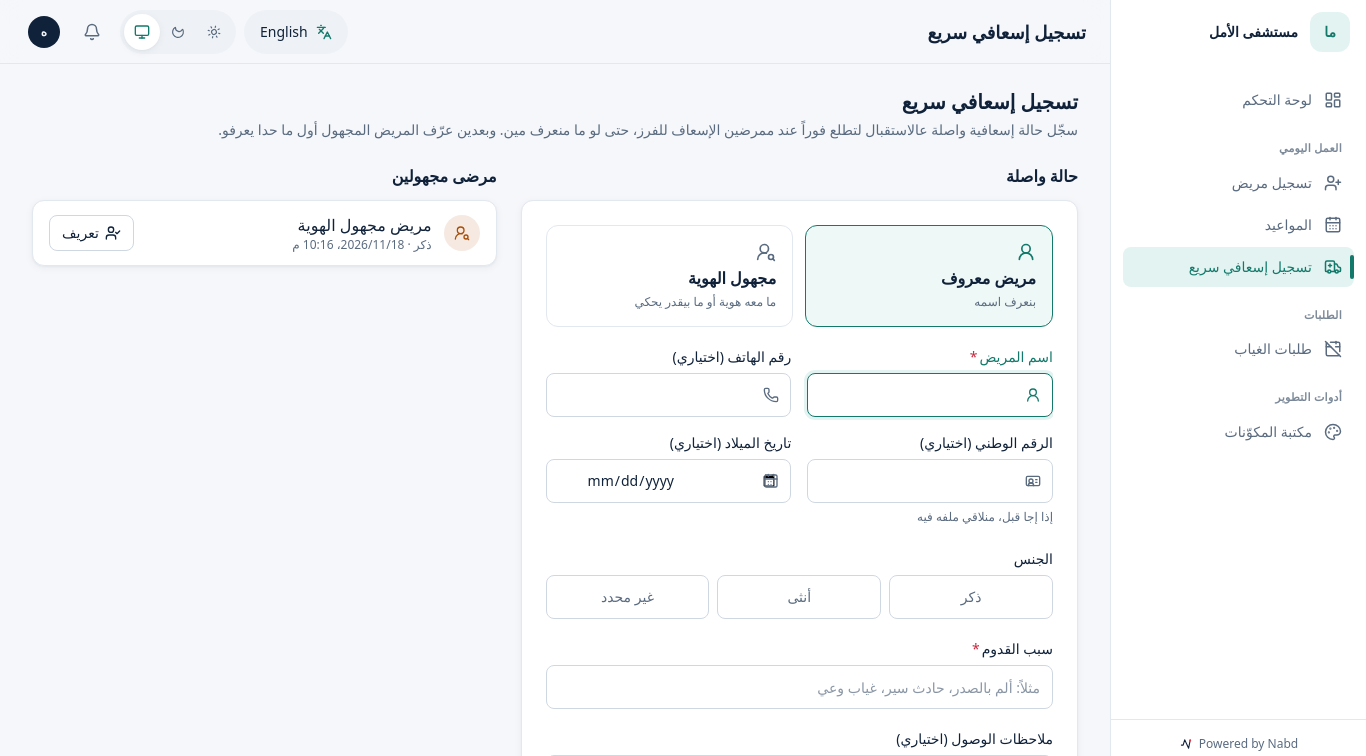
ReceptionEmergencyPage (task 4.3) › identifies an unidentified patient, joining the file they already had
Click the button "تعريف". click: [91, 233]
box: [49, 215, 134, 251]
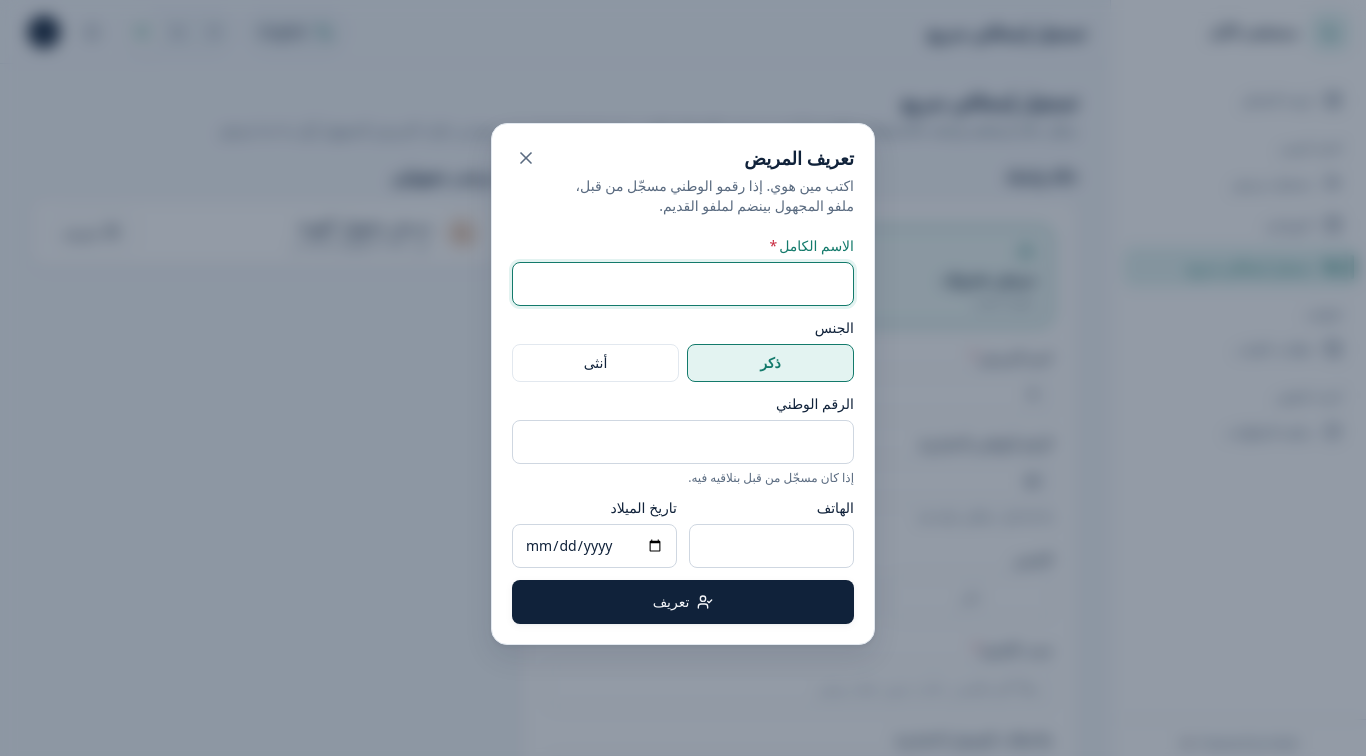
Click the button "تعريف". click: [683, 602]
box: [512, 580, 854, 624]
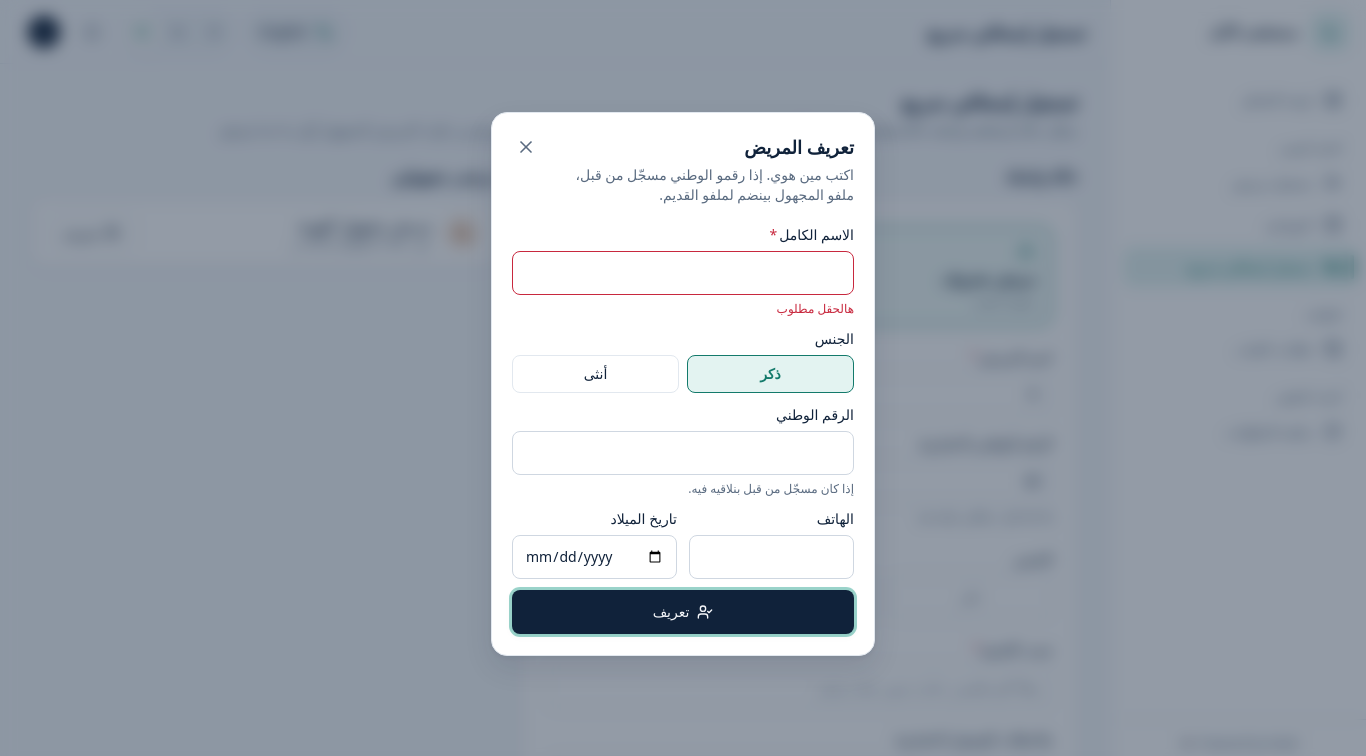
Result: the text "هالحقل مطلوب" is shown at [777, 300, 854, 317]
Type "سارة" into the field labelled "الاسم الكامل*". click: [683, 273]
box: [512, 251, 854, 295]
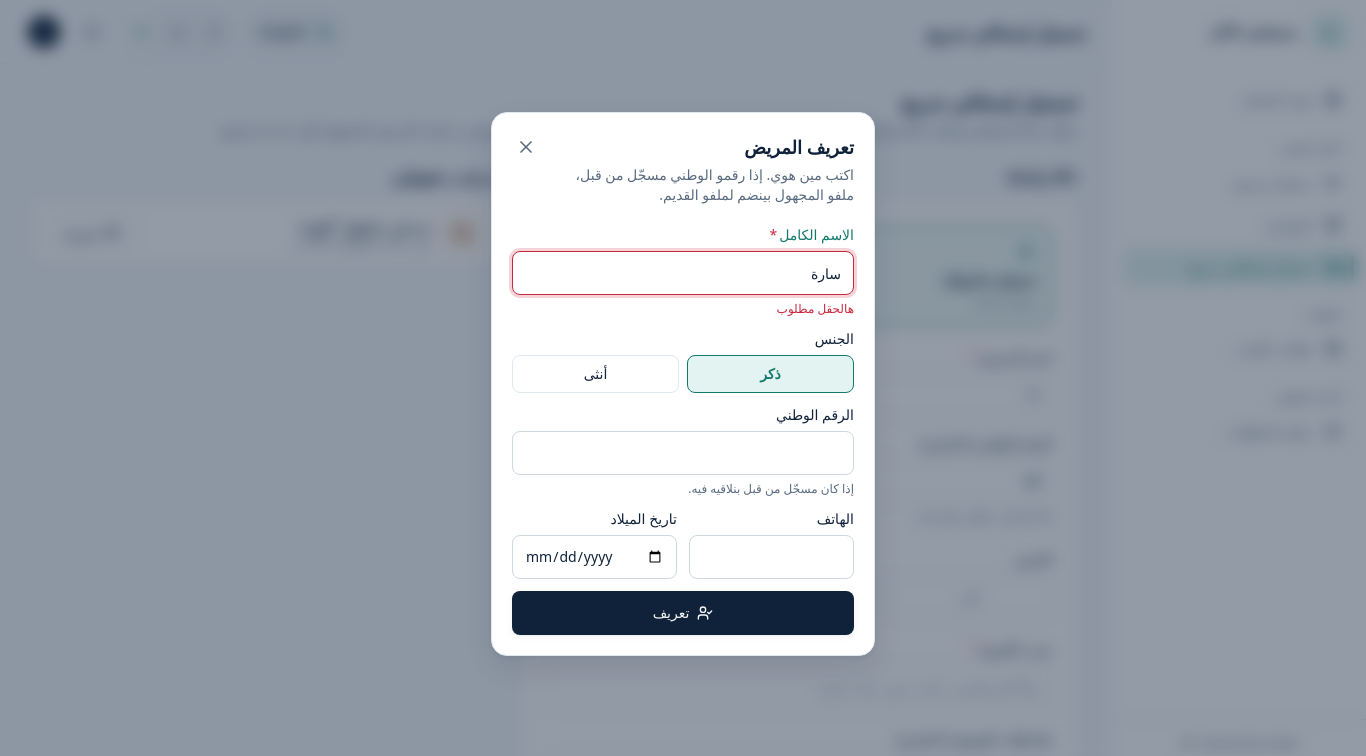
Type "11112222" into the field labelled "الرقم الوطني". click: [683, 453]
box: [512, 431, 854, 475]
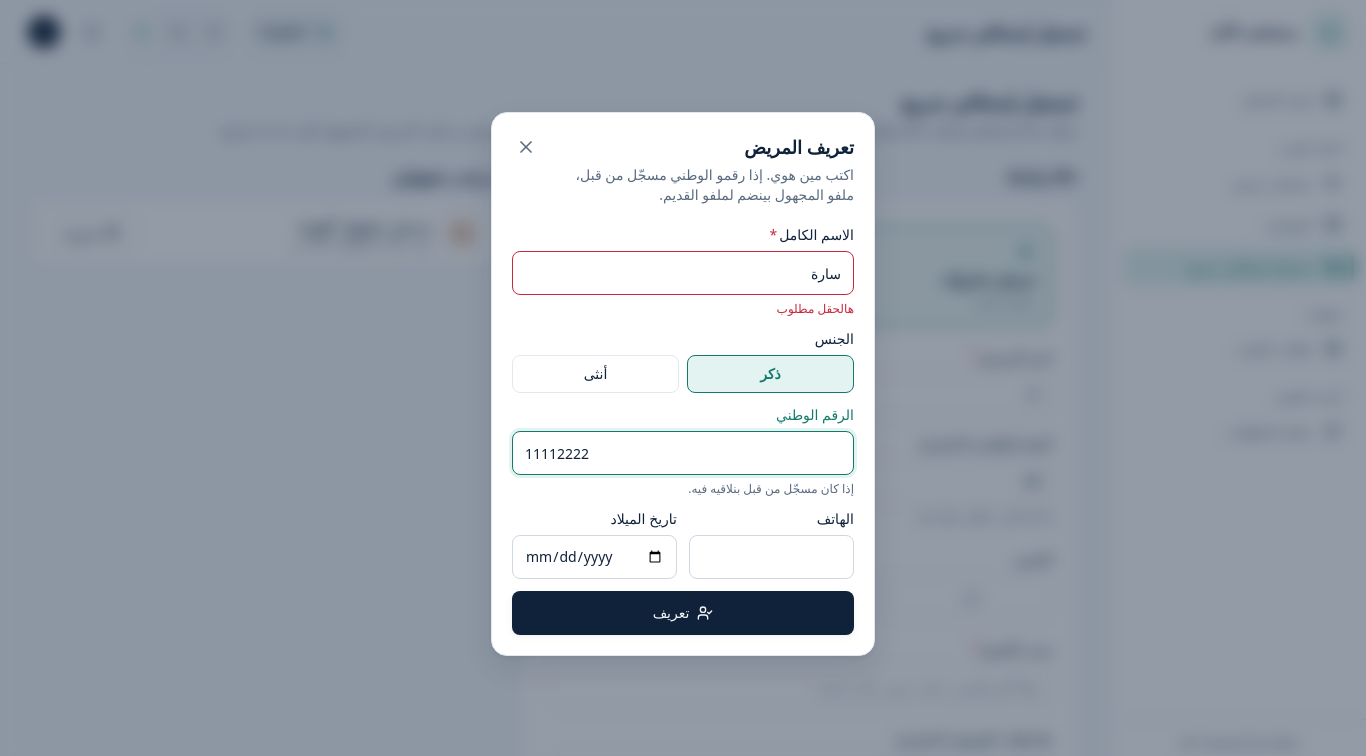
Click the button "تعريف". click: [683, 613]
box: [512, 591, 854, 635]
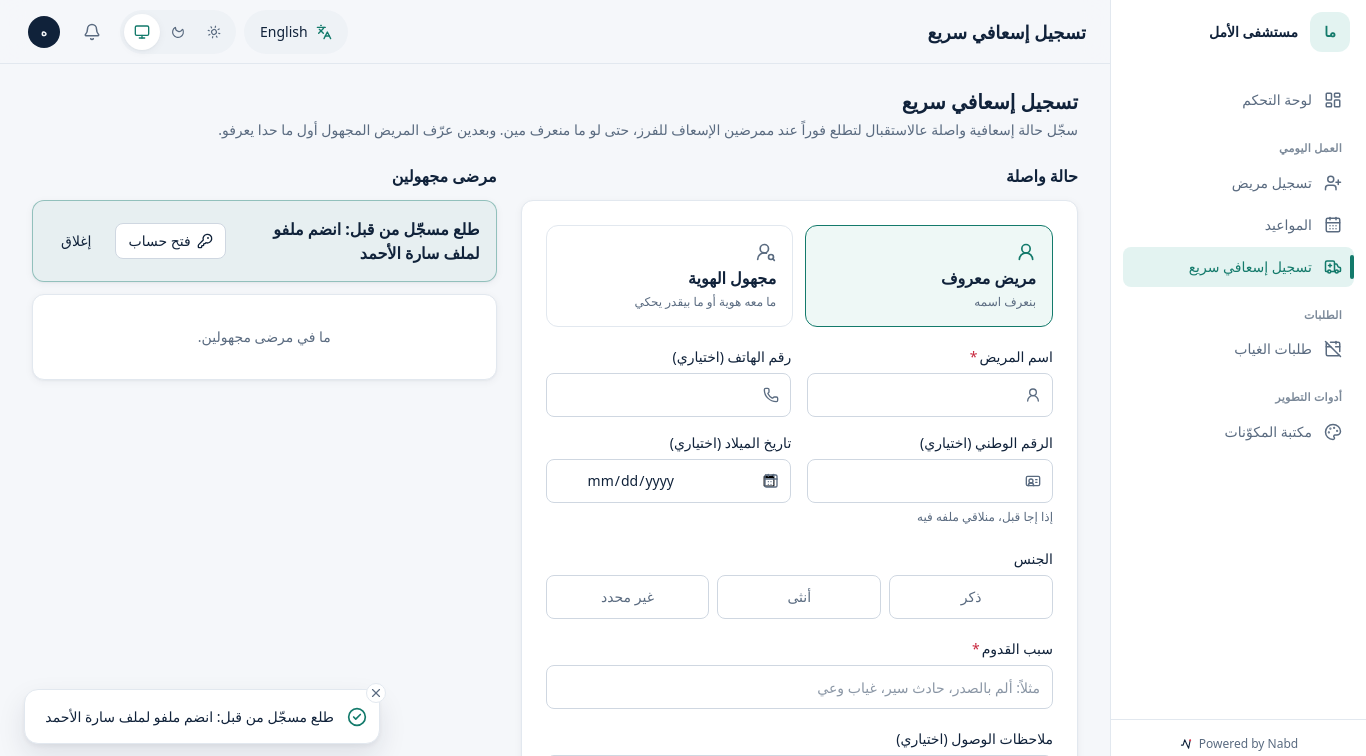
Result: the text "ما في مرضى مجهولين." is shown at [32, 294, 496, 380]
Result: the button "فتح حساب" is shown at [116, 223, 226, 259]
